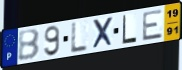9: (43, 25, 61, 58)
B: (17, 28, 41, 63)
E: (141, 8, 164, 42)
L: (69, 22, 89, 55), (121, 14, 138, 45)
X: (91, 16, 115, 51)
